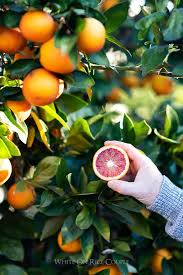orange: (36, 35, 82, 73), (21, 71, 61, 111), (17, 8, 55, 43)
